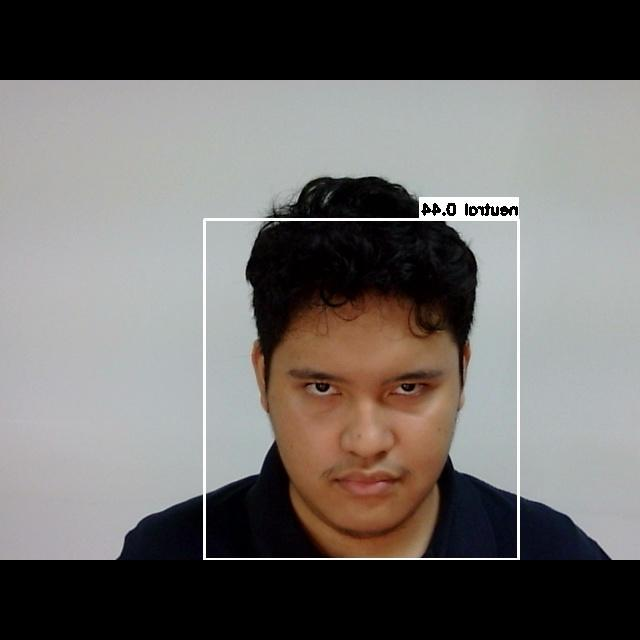Angry: (278, 341, 451, 500)
